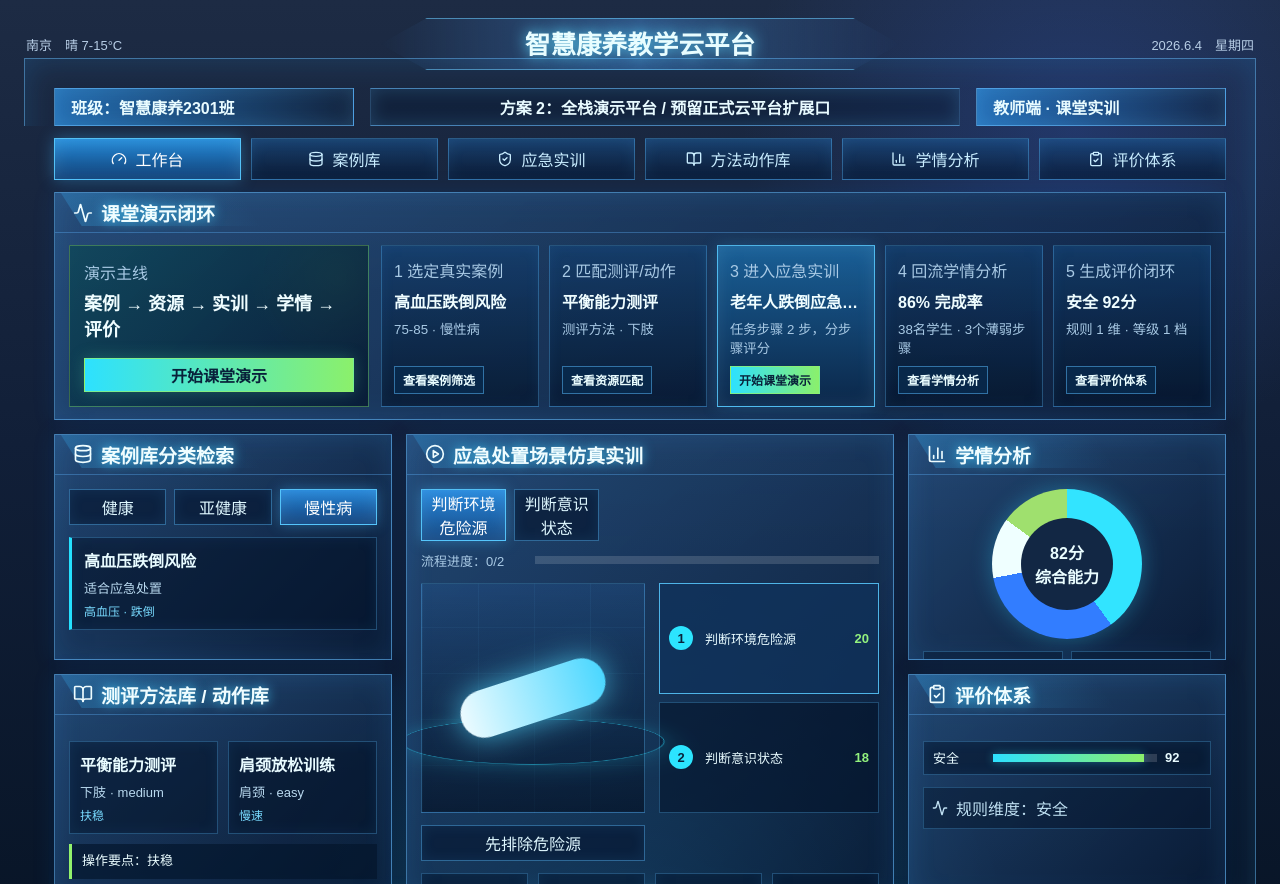
Test: App › shows class learning analytics, weak steps, and student insight
The width and height of the screenshot is (1280, 884).
Click the button named "学情分析" at (936, 159), box [842,138,1029,180]
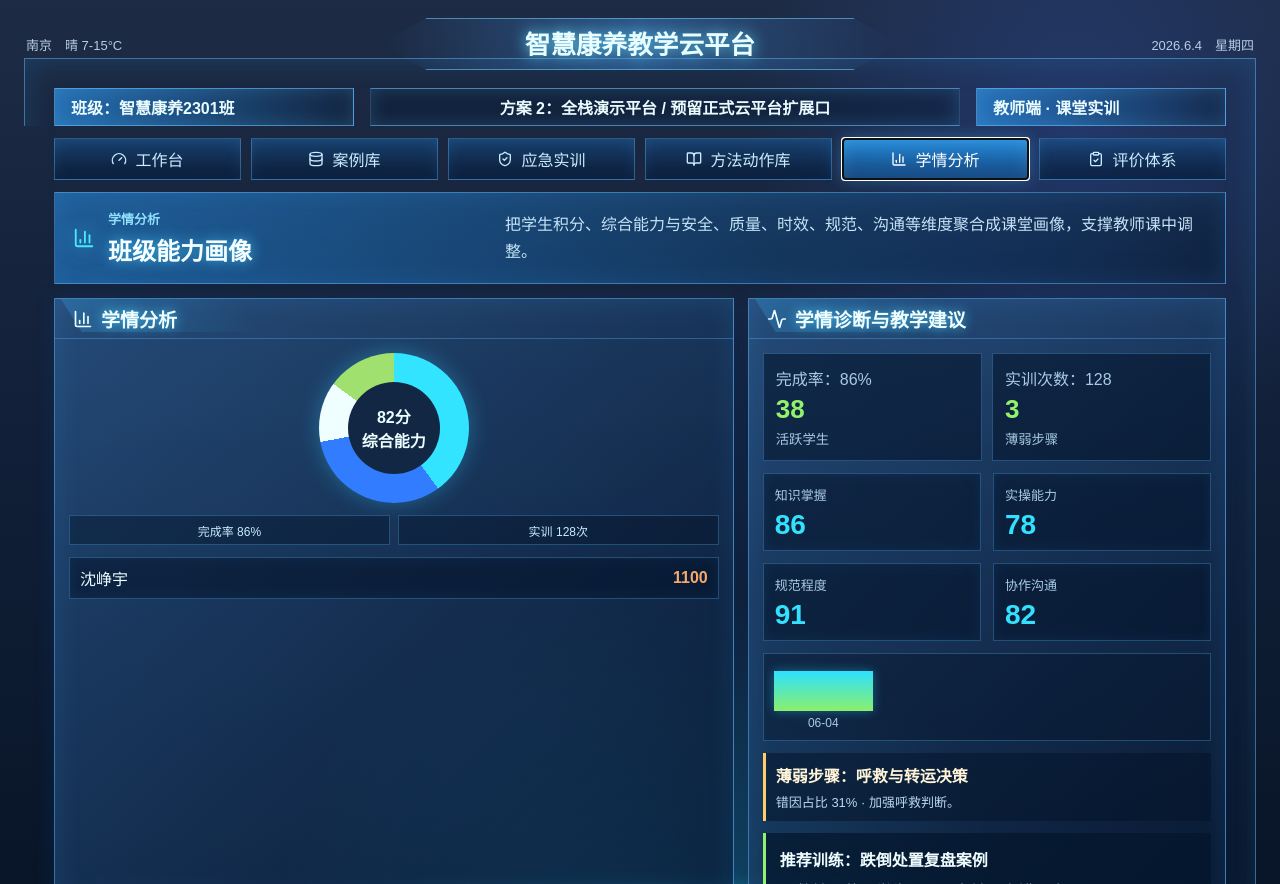
expect the text "完成率：86%" is shown: met, box [776,371,872,388]
expect the text "实训次数：128" is shown: met, box [1005,371,1112,388]
expect the text "薄弱步骤：呼救与转运决策" is shown: met, box [776,768,968,785]
Click the button "沈峥宇 1100" at (104, 580), box [69,557,719,599]
(page scrolled)
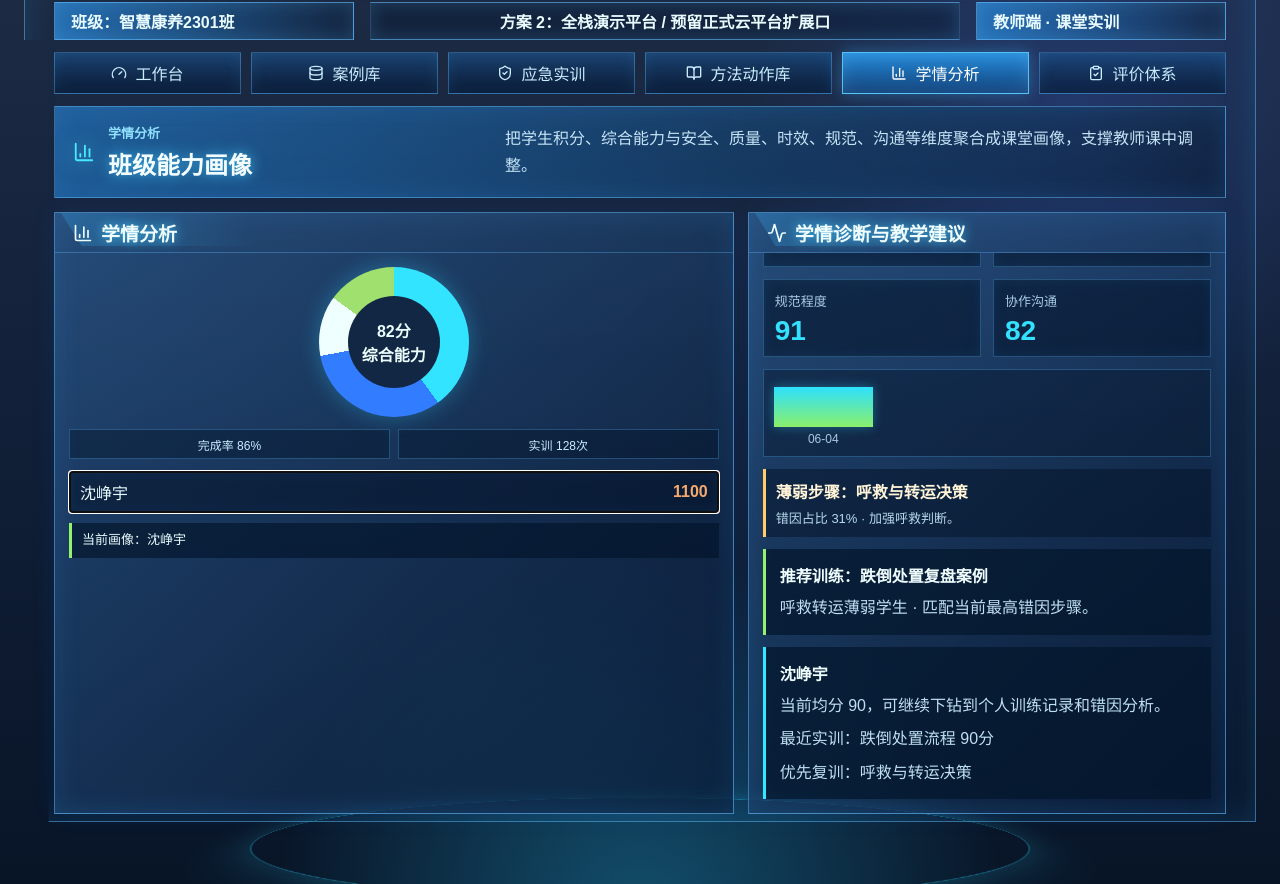
expect the text "最近实训：跌倒处置流程 90分" is shown: met, box [780,730,994,747]
